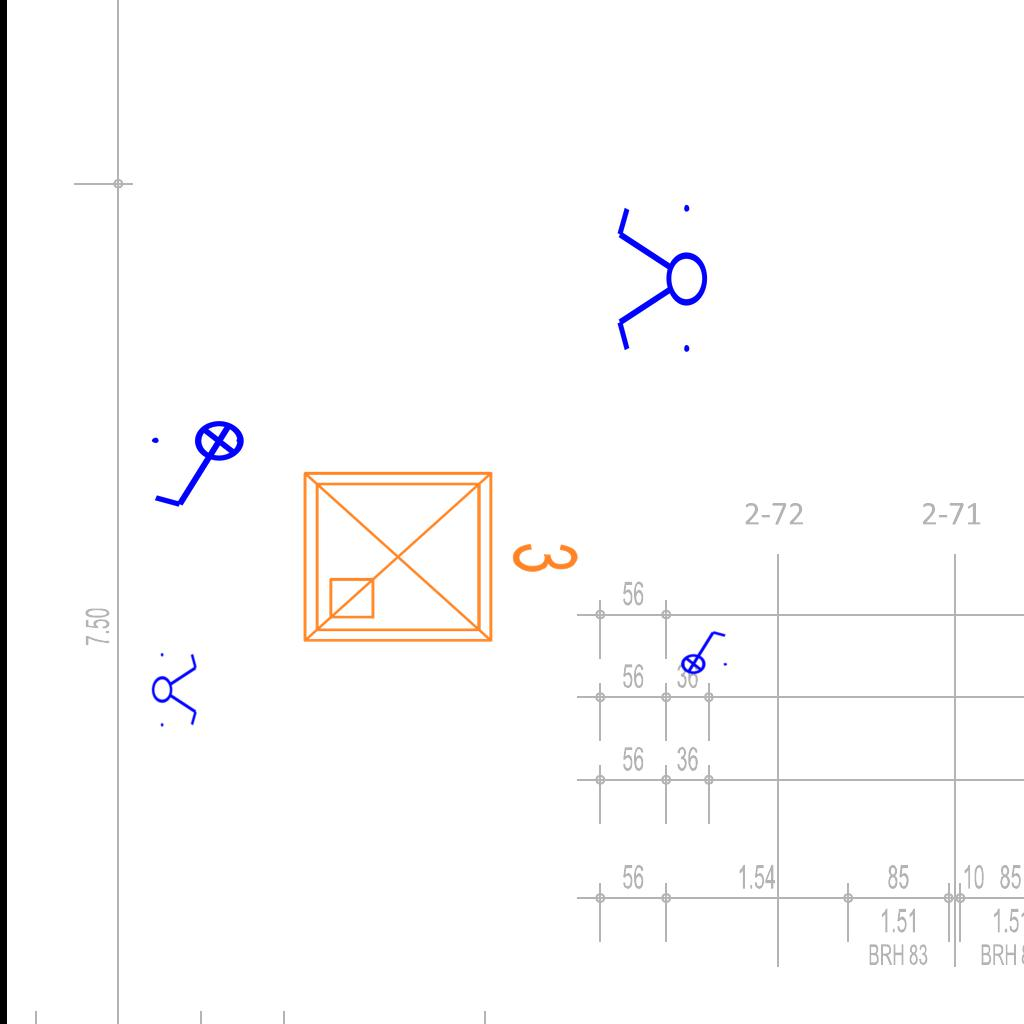Ausschalter_beleuchtet: (146, 419, 258, 515), (674, 627, 730, 675)
Einbaudownlights_LED_Konferenzraeume: (289, 449, 589, 657)
Serienschalter: (613, 196, 709, 364), (151, 647, 199, 731)
